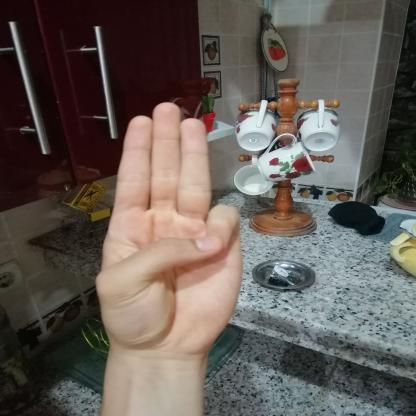THA: (78, 89, 256, 363)
